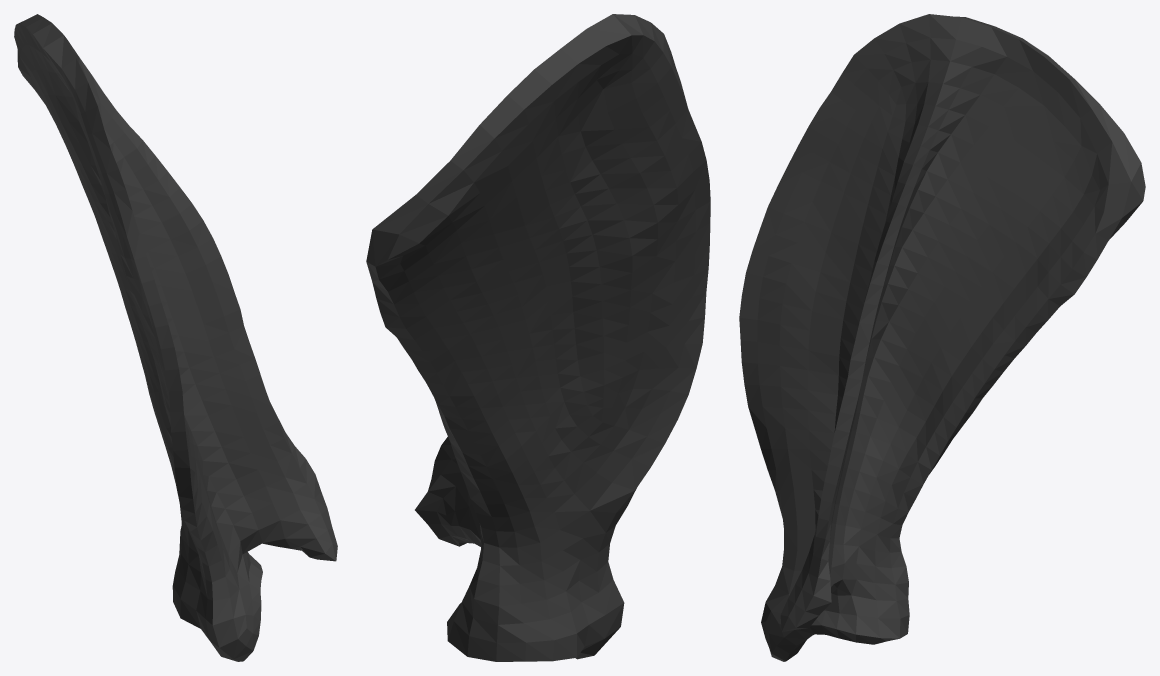
Rendered from Scapula.glb.
3 renders of one model, left to right at view 1: azimuth 30°, elevation 25°; view 2: azimuth 150°, elevation 25°; view 3: azimuth 270°, elevation 25°, orthographic. The views are drawn at different scales.
Parts seen in each view (by area): view 1: Scapula; view 2: Scapula; view 3: Scapula.
Part boxes in pixels (x1,y1,x2,y2): Scapula: (14, 14, 337, 661); Scapula: (366, 14, 710, 661); Scapula: (739, 14, 1145, 661).
Size of the model in its own units: 3.38 by 8.53 by 5.25.
1 material, 1 textured.
